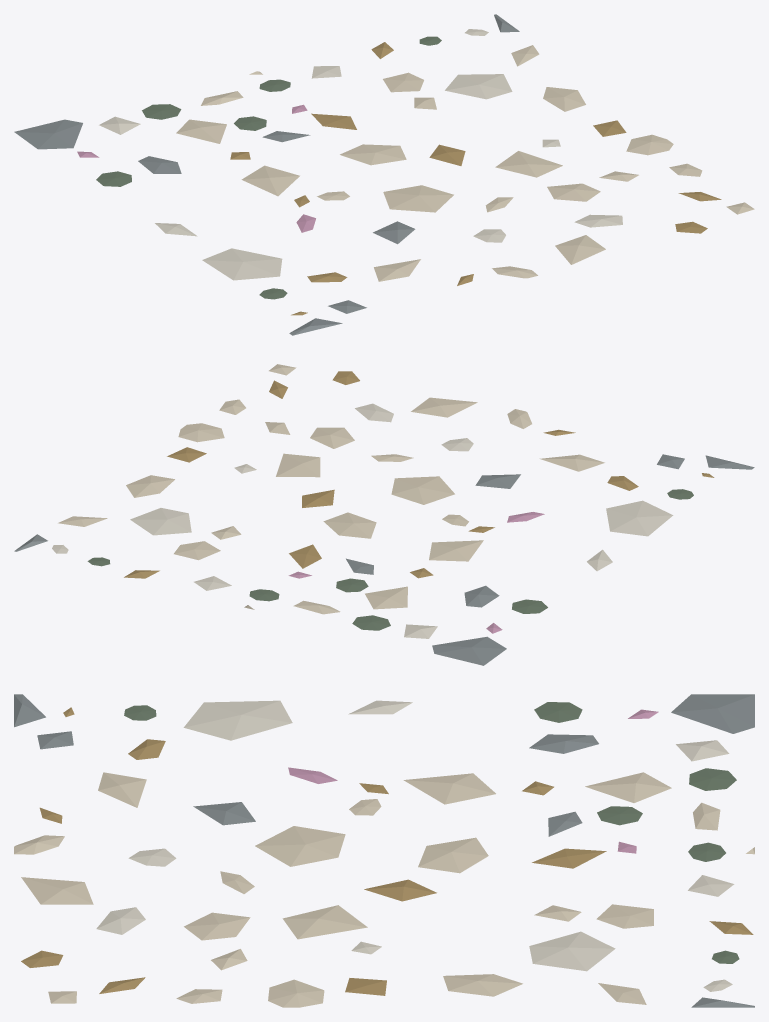
The model's file is rubble-scatter-decal-61332b.glb.
3 renders of one model, top to bottom at view 1: azimuth 30°, elevation 25°; view 2: azimuth 150°, elevation 25°; view 3: azimuth 270°, elevation 25°, orthographic. The views are drawn at different scales.
Visible parts, largest first — view 1: rubble-scatter-decal-mesh; view 2: rubble-scatter-decal-mesh; view 3: rubble-scatter-decal-mesh.
Boxes of the visible parts, x1,y1,x2,y2 form: rubble-scatter-decal-mesh: (14,14,754,335); rubble-scatter-decal-mesh: (14,364,754,665); rubble-scatter-decal-mesh: (14,694,754,1007).
Size of the model in its own units: 4 by 0.019 by 4.
